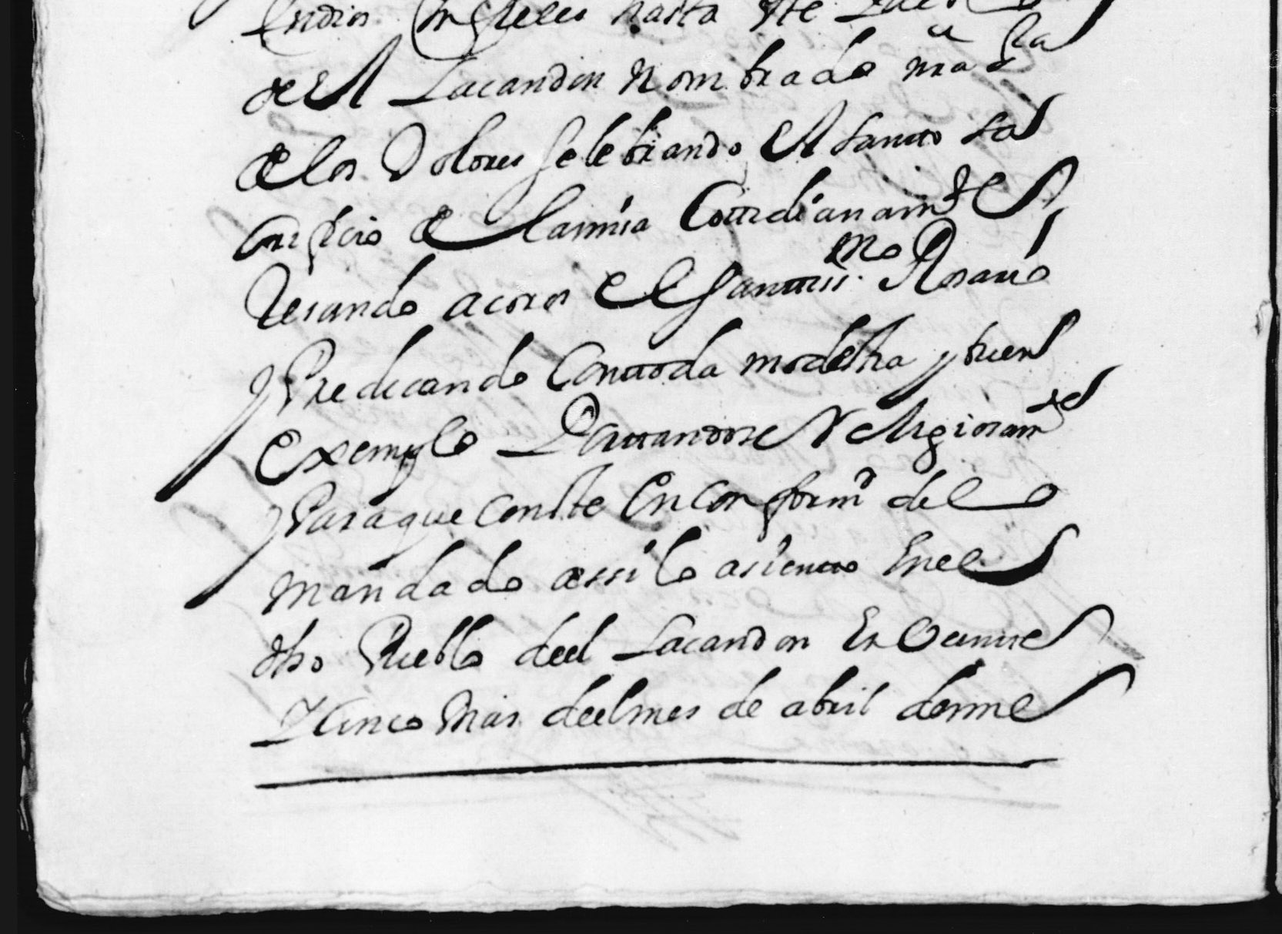lacandon: (387, 57, 604, 106), (611, 613, 809, 661)
